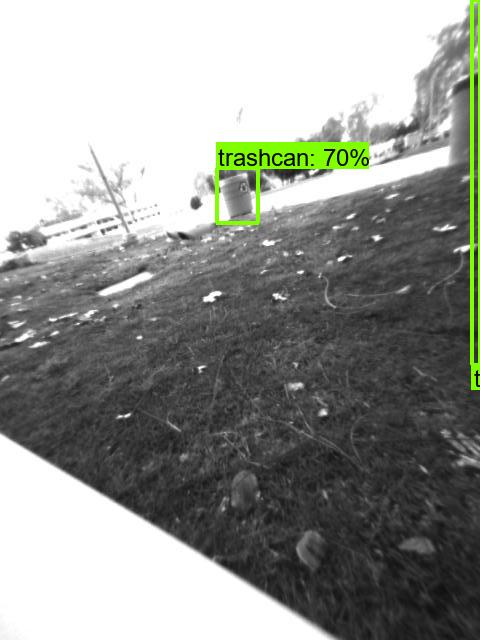trashcan: (217, 169, 252, 222)
